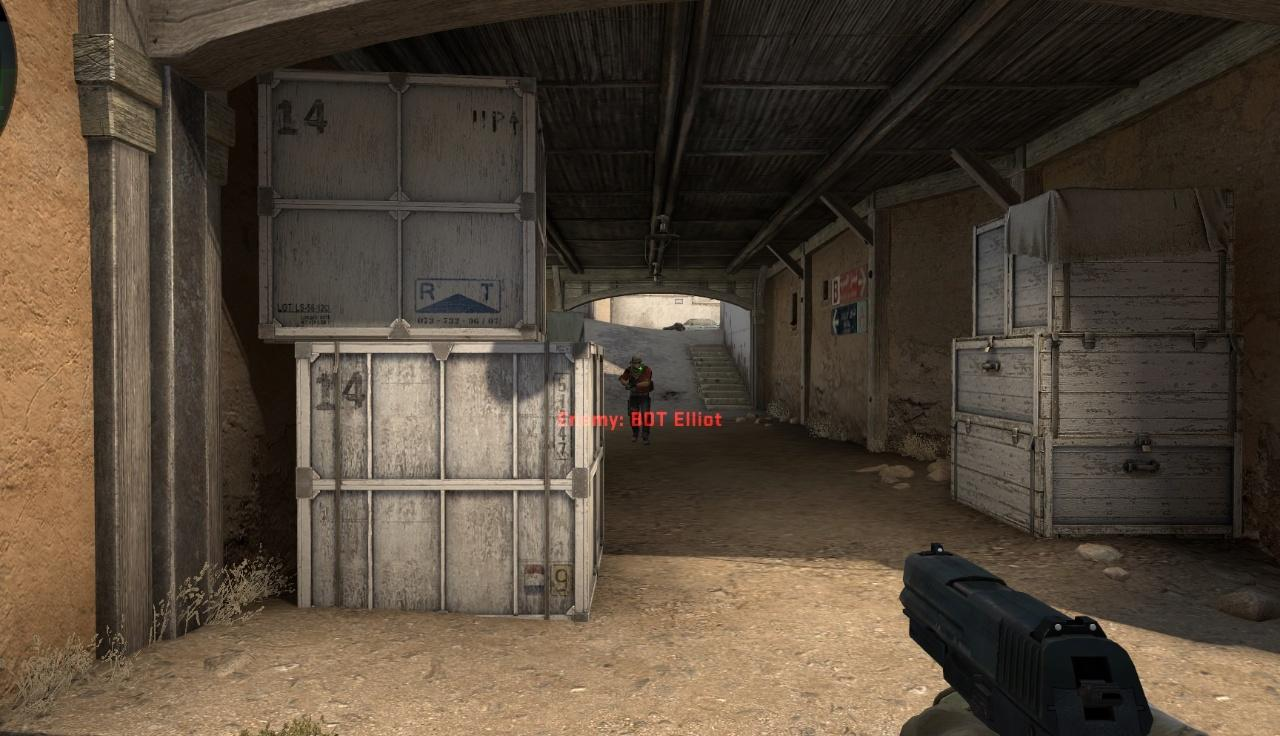pistol: (901, 541, 1159, 736)
tt: (622, 357, 654, 443)
tthead: (631, 357, 643, 369)
